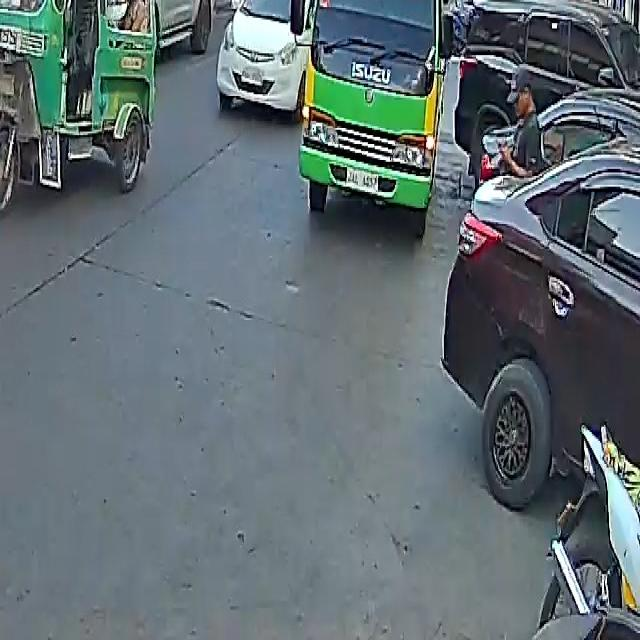car: (444, 94, 640, 524), (455, 0, 640, 192), (218, 0, 326, 117), (100, 0, 220, 57)
